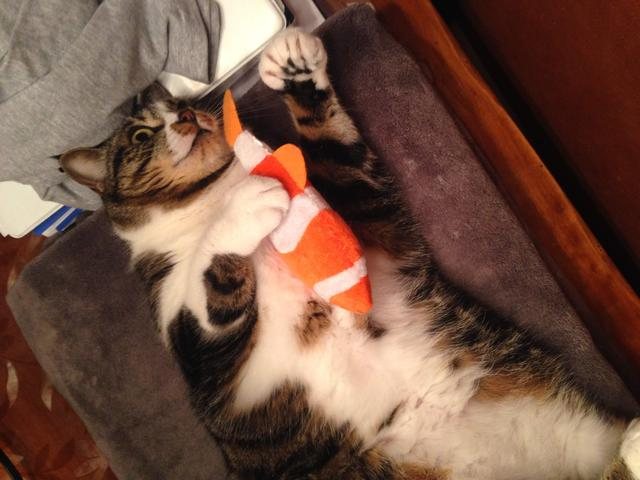clownfish: (221, 84, 370, 315)
playdoh: (50, 25, 640, 480)
